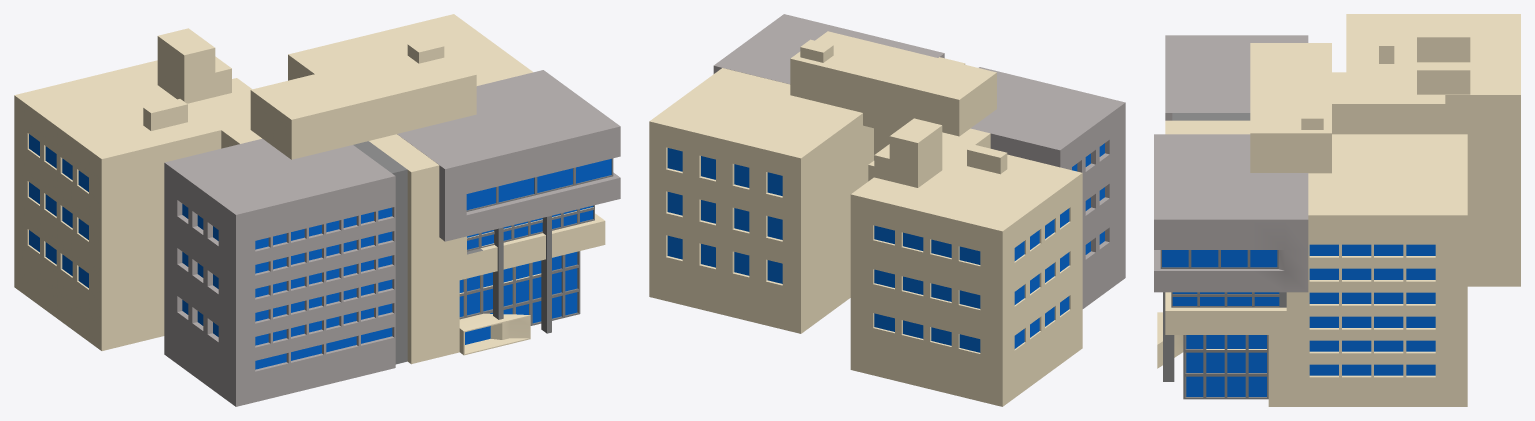
The model's file is 학술정보관.fbx.
3 renders of one model, left to right at view 1: azimuth 30°, elevation 25°; view 2: azimuth 150°, elevation 25°; view 3: azimuth 270°, elevation 25°, orthographic. The views are drawn at different scales.
Parts seen in each view (by area): view 1: 학술정보관_3, Cube_10, Cube_60, Cube_13_2, Cube_57, Cube_59, Cube_2, Cube_58, Cube_13, Cube_11, Cube_12, Cube_12_2 (+1 smaller); view 2: 학술정보관_3, Cube_10, Cube, Cube_1, Cube_13_2, Cube_2, Cube_11, Cube_12_2, Cube_3; view 3: 학술정보관_3, Cube_10, Cube_61, Cube_57, Cube_13_2, Cube_59, Cube_58, Cube_13, Cube_11, Cube_12_2.
Boxes of the visible parts, x1,y1,x2,y2 form: 학술정보관_3: [14, 14, 620, 406]; Cube_10: [250, 51, 476, 159]; Cube_60: [255, 207, 392, 369]; Cube_13_2: [157, 28, 231, 103]; Cube_57: [459, 252, 577, 323]; Cube_59: [466, 159, 611, 210]; Cube_2: [29, 134, 88, 287]; Cube_58: [467, 205, 593, 249]; Cube_13: [541, 215, 551, 333]; Cube_11: [143, 99, 187, 130]; Cube_12: [493, 227, 503, 319]; Cube_12_2: [407, 38, 444, 63]; 학술정보관_3: [649, 14, 1125, 406]; Cube_10: [790, 31, 996, 136]; Cube: [667, 148, 782, 283]; Cube_1: [874, 225, 980, 352]; Cube_13_2: [874, 118, 942, 187]; Cube_2: [1014, 208, 1069, 348]; Cube_11: [967, 144, 1007, 174]; Cube_12_2: [800, 39, 833, 62]; Cube_3: [1072, 143, 1104, 254]; 학술정보관_3: [1154, 14, 1520, 406]; Cube_10: [1250, 43, 1331, 173]; Cube_61: [1309, 244, 1435, 375]; Cube_57: [1186, 335, 1266, 396]; Cube_13_2: [1417, 22, 1470, 94]; Cube_59: [1162, 250, 1277, 267]; Cube_58: [1172, 292, 1279, 305]; Cube_13: [1163, 292, 1174, 381]; Cube_11: [1379, 28, 1394, 63]; Cube_12_2: [1301, 106, 1323, 129].
Size of the model in its own units: 1002 by 555 by 755.
